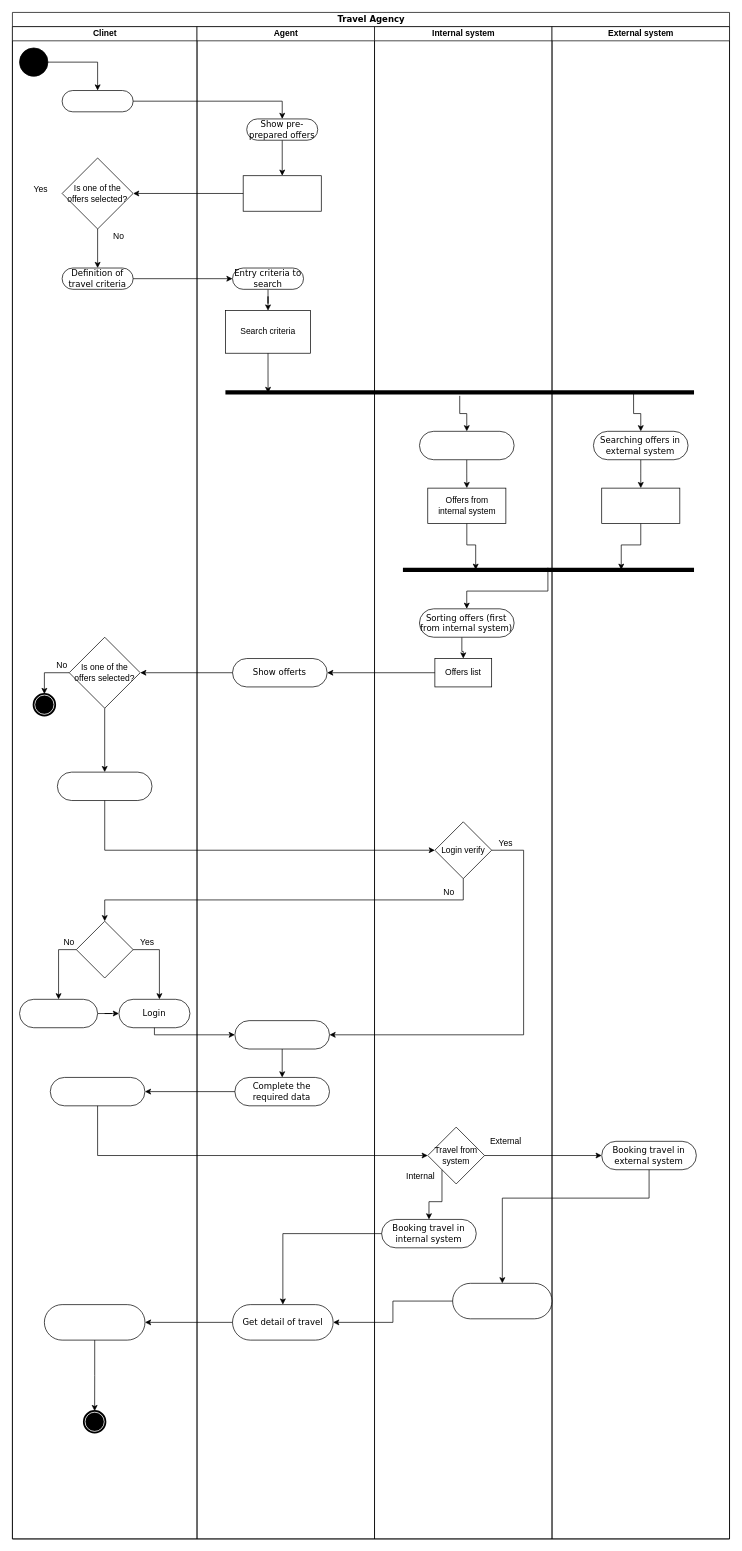
This 742x1551 diagram has some shape labels left out. Each missing label, with the centre of its shape:
Create account: the point at 58,1013
Get information about travel: the point at 94,1322
Has an account?: the point at 104,949
Offers from external system: the point at 640,505
Payment: the point at 97,1091
Pre-prepared offers: the point at 281,193
Save booking travel from external system in internal database: the point at 502,1301
Searching offers in internal system: the point at 466,445
Select one of offerts: the point at 104,786
Travel booking: the point at 282,1034
Want to buy travel: the point at 97,101
